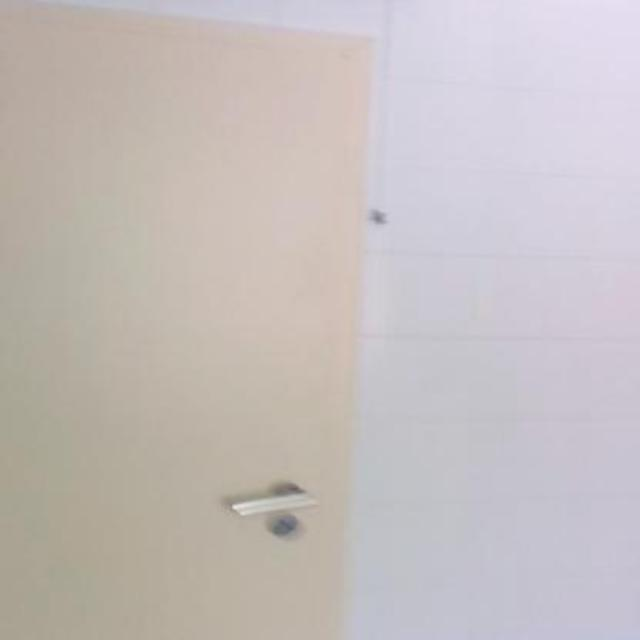door: (0, 0, 376, 638)
